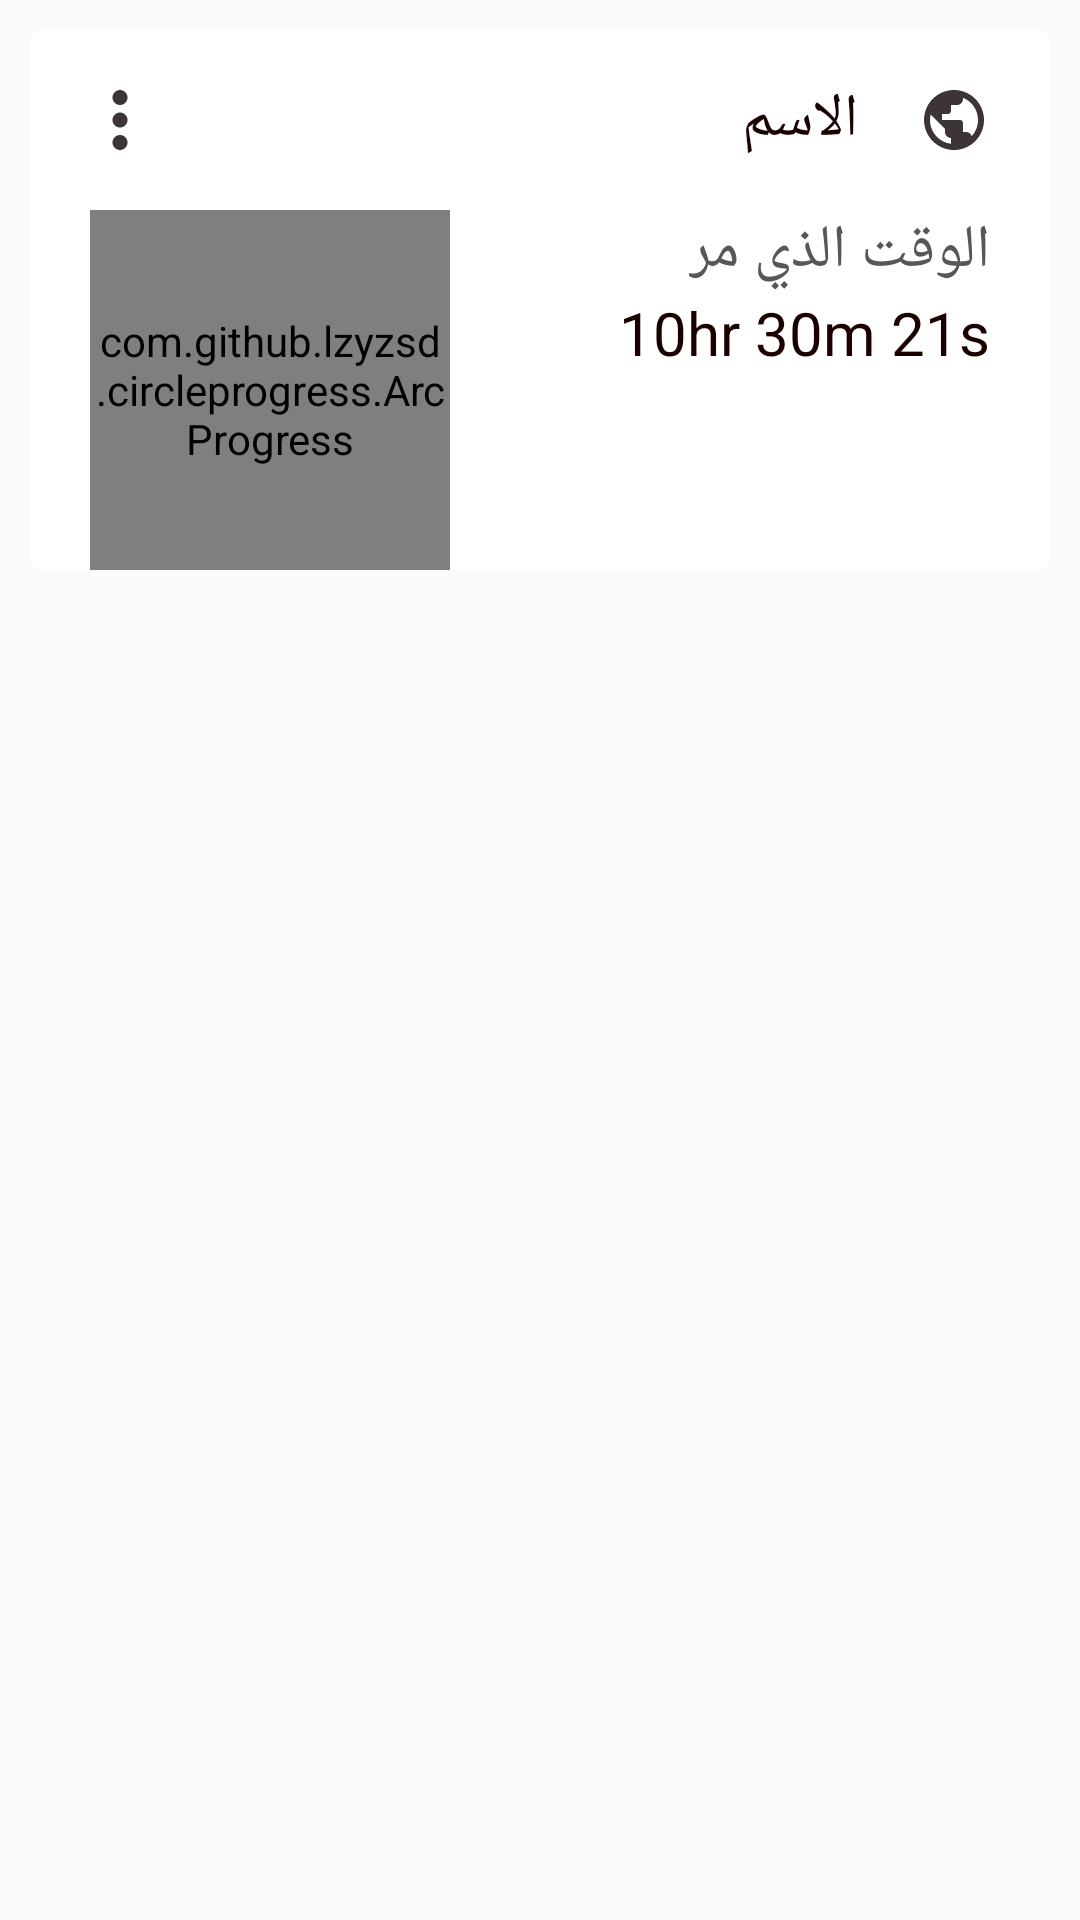

Where to tap for icons on this 1080 × 1920 app screen, as [x,y]:
more: [120,120]
public: [954,120]
